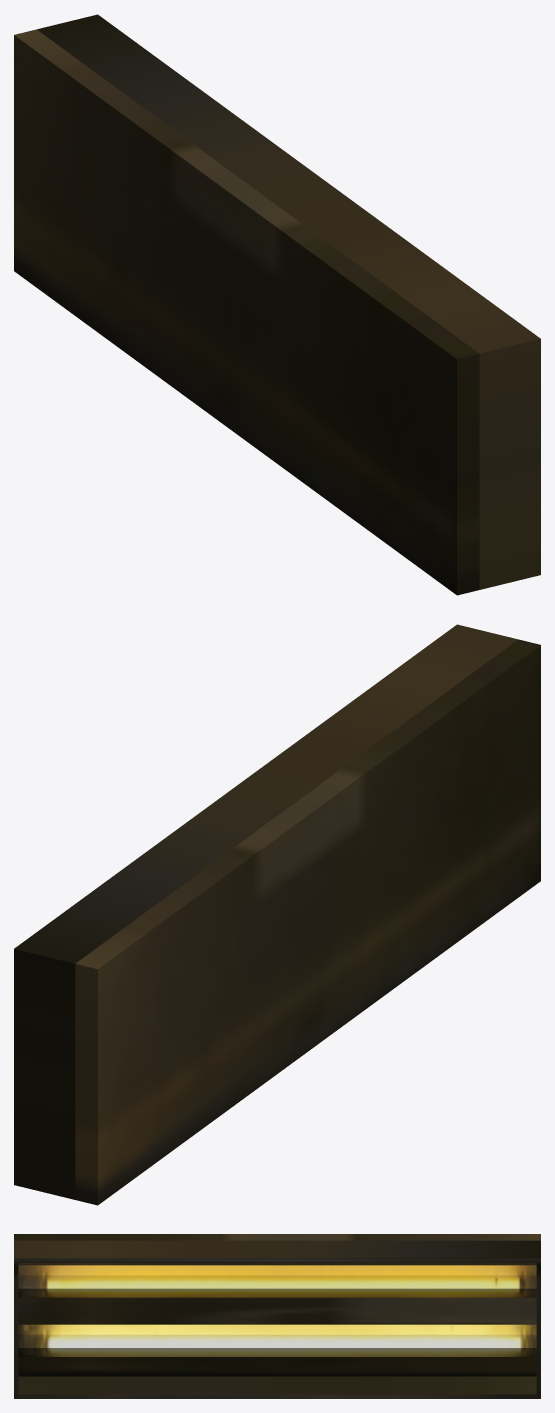
Rendered from prop_wall_light.fbx.
3 views of the same model, one above another, from view 1: azimuth 30°, elevation 25°; view 2: azimuth 150°, elevation 25°; view 3: azimuth 270°, elevation 25° (orthographic). The views are drawn at different scales.
Visible parts, largest first — view 1: Cube; view 2: Cube; view 3: Cube.
Part boxes in pixels (box(x1,y1,x2,y2)): Cube: box(14, 14, 540, 595); Cube: box(14, 624, 540, 1205); Cube: box(14, 1234, 540, 1398).
Bounding box in the file's own units: 22.29 × 60 × 204.
Materials: 1 (1 with a texture image).
